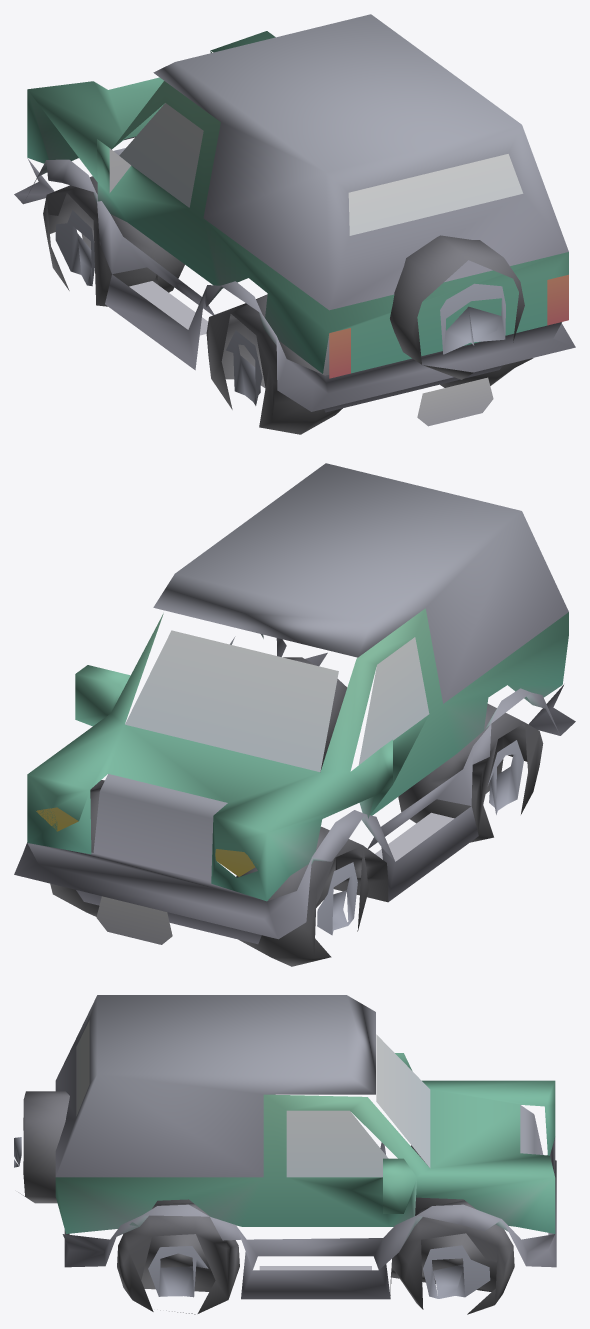
Rendered from car_suv_lod1.glb.
3 renders of one model, top to bottom at view 1: azimuth 30°, elevation 25°; view 2: azimuth 150°, elevation 25°; view 3: azimuth 270°, elevation 25°, orthographic. The views are drawn at different scales.
Bounding box in the file's own units: 2.1 × 1.92 × 4.05.
